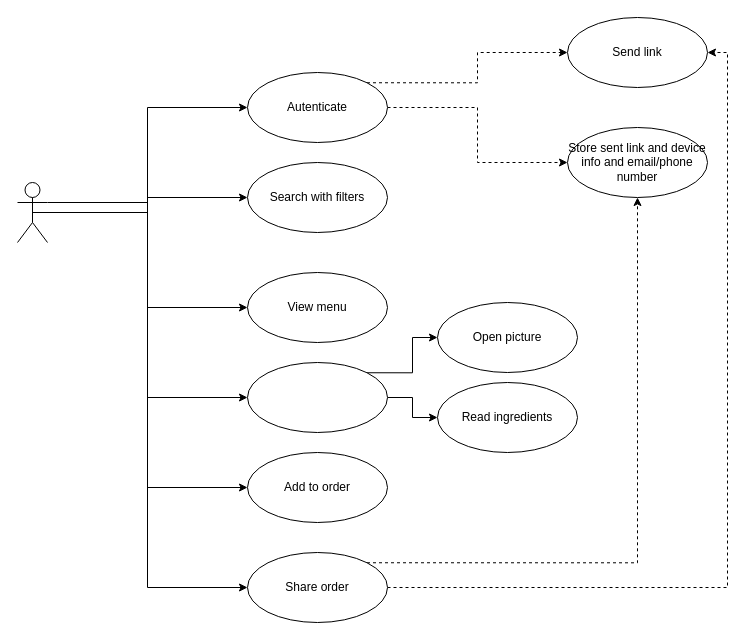
Some shapes in this 753 by 640 pixel diagram are drawn without their labels. The box of each missing label's shape, as (x1, y1, x2, y2) in pixels:
Client: (16, 182, 48, 242)
View dish page: (246, 362, 388, 432)
